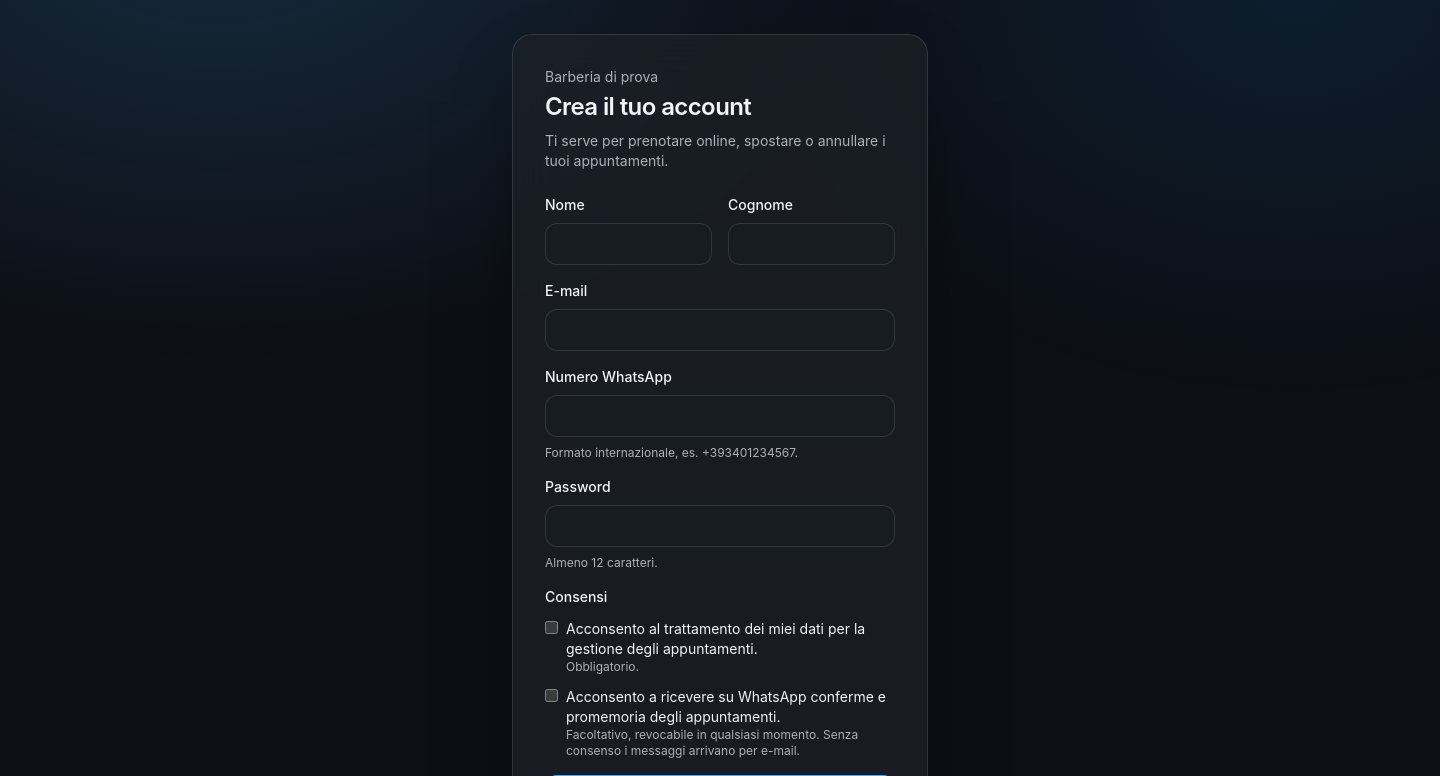
Scenario: PaginaRegistrazione › segnala una password troppo corta
The width and height of the screenshot is (1440, 776).
Step 1. Type "Marta" into the field labelled "Nome" → coordinates (628, 244), box [545,223,712,265]
Step 2. Type "Esposito" into the field labelled "Cognome" → coordinates (812, 244), box [728,223,895,265]
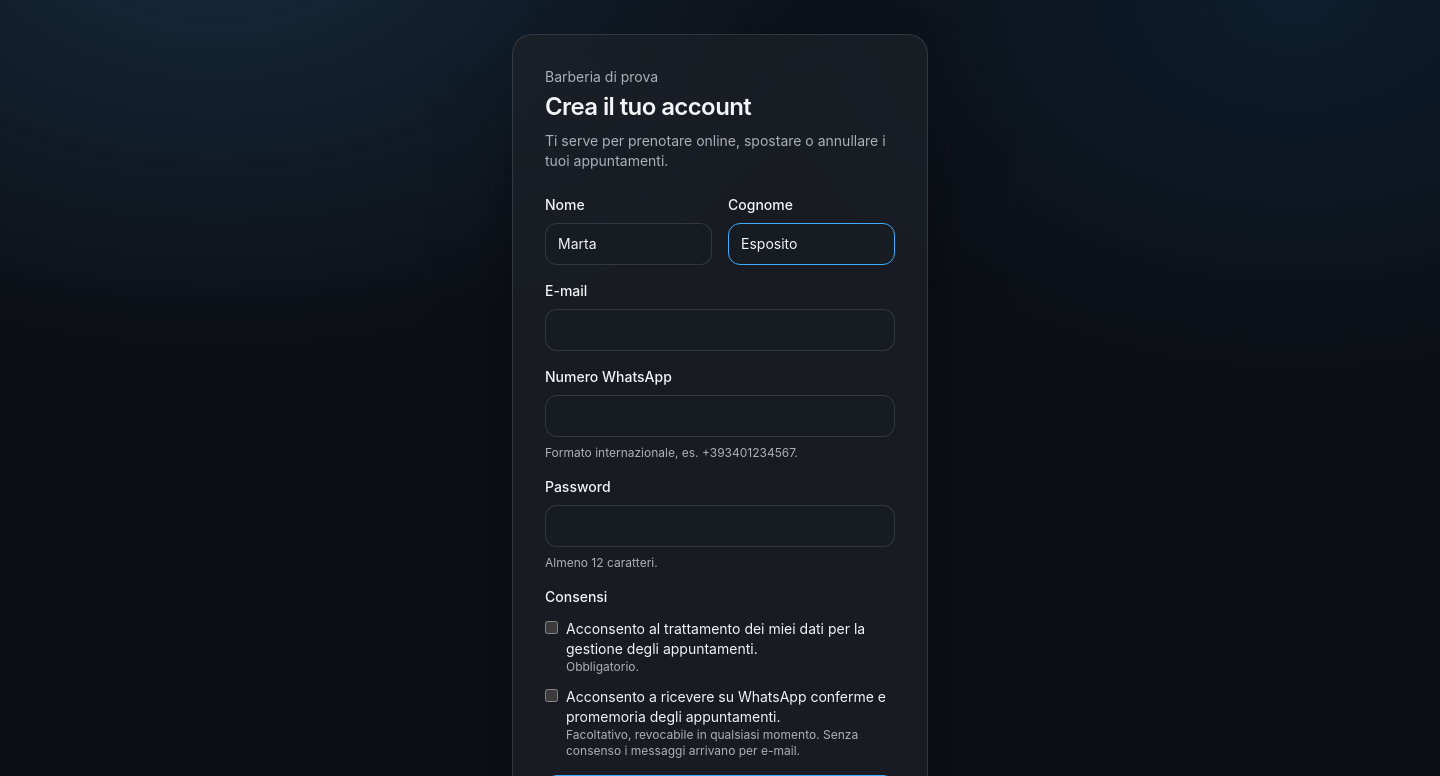
Step 3. Type "marta@cliente.test" into the field labelled "E-mail" → coordinates (720, 330), box [545,309,895,351]
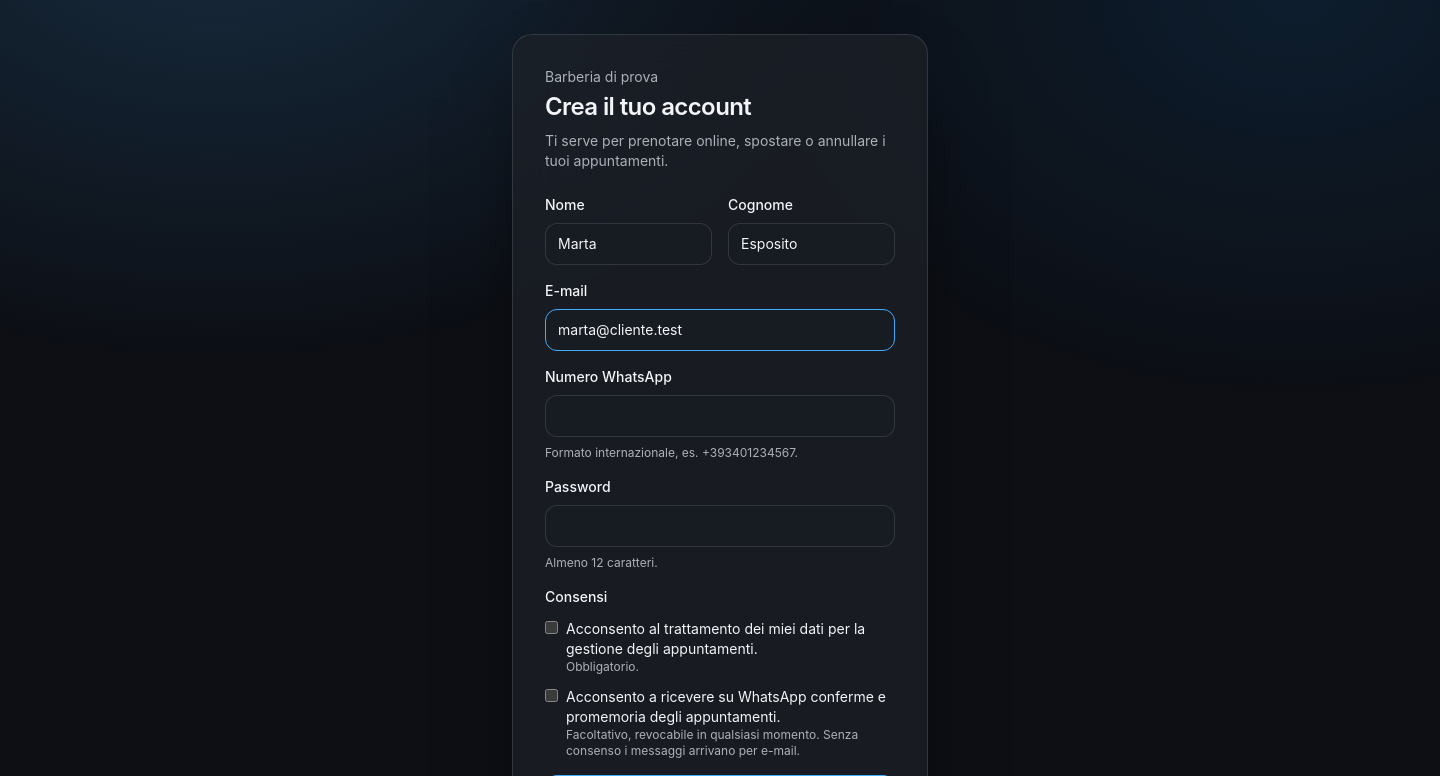
Step 4. Type "+393401234567" into the field labelled "Numero WhatsApp" → coordinates (720, 416), box [545,395,895,437]
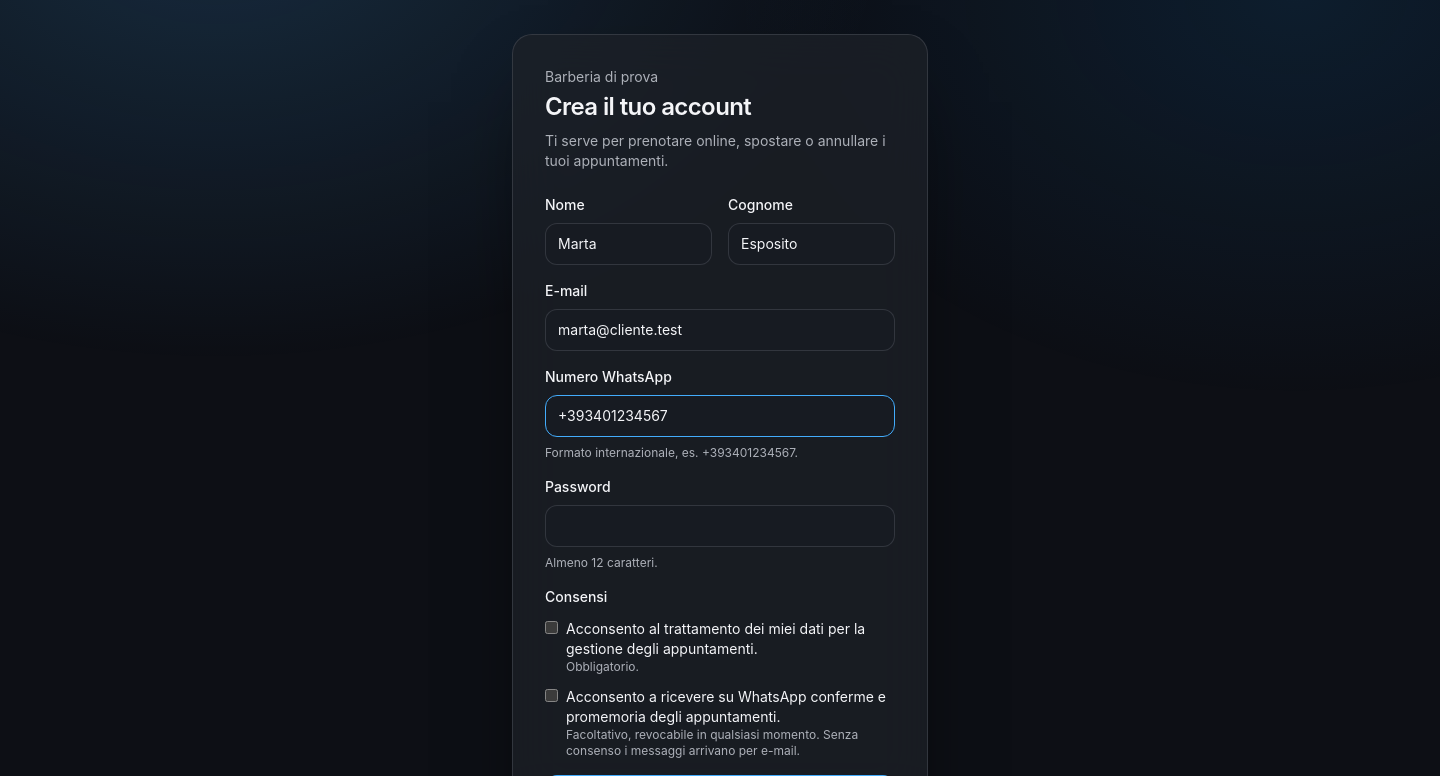
Step 5. Type "corta" into the password field labelled "Password" → coordinates (720, 526), box [545,505,895,547]
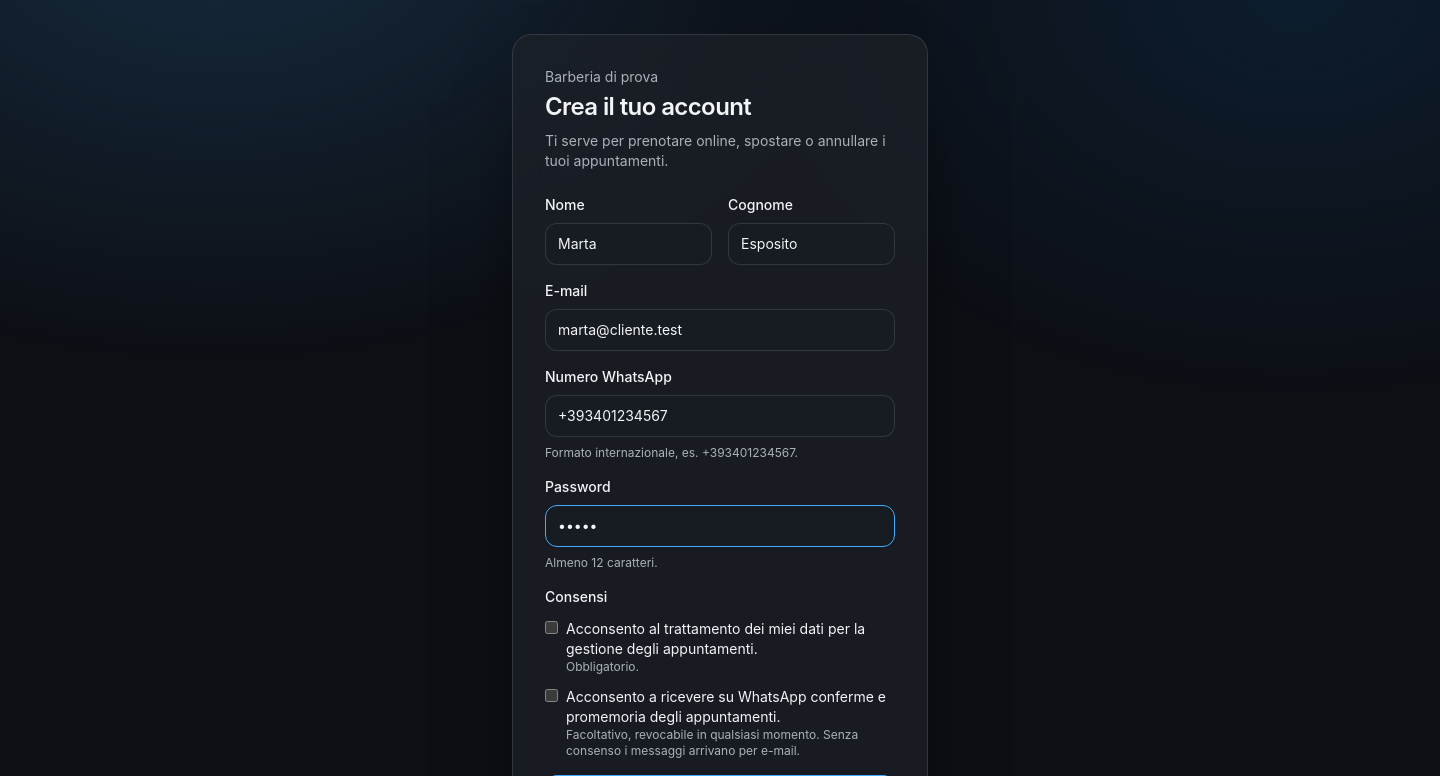
Step 6. Click the checkbox labelled "trattamento dei miei dati" → coordinates (552, 628), box [545,621,558,634]
(page scrolled)
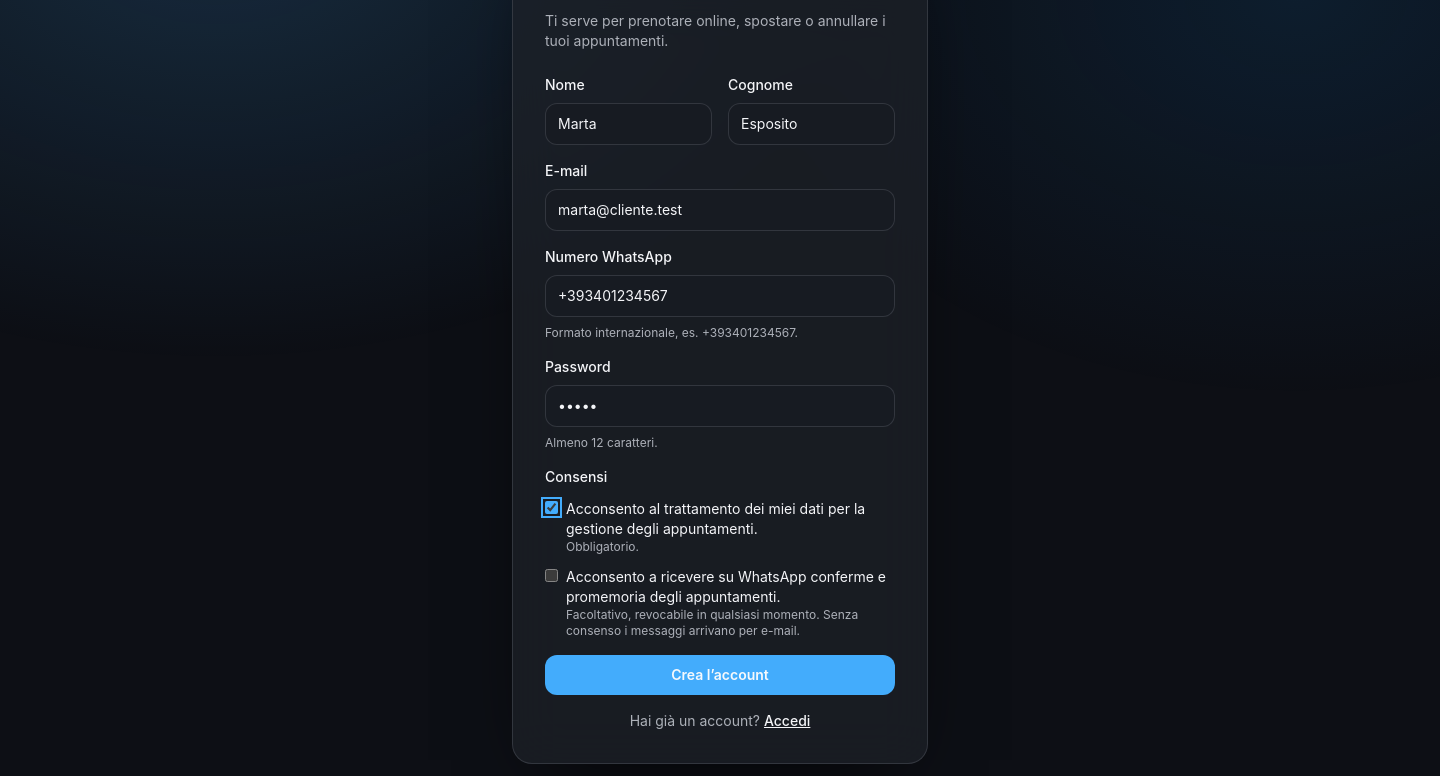
Step 7. Click the button "Crea l’account" → coordinates (720, 675), box [545,655,895,695]
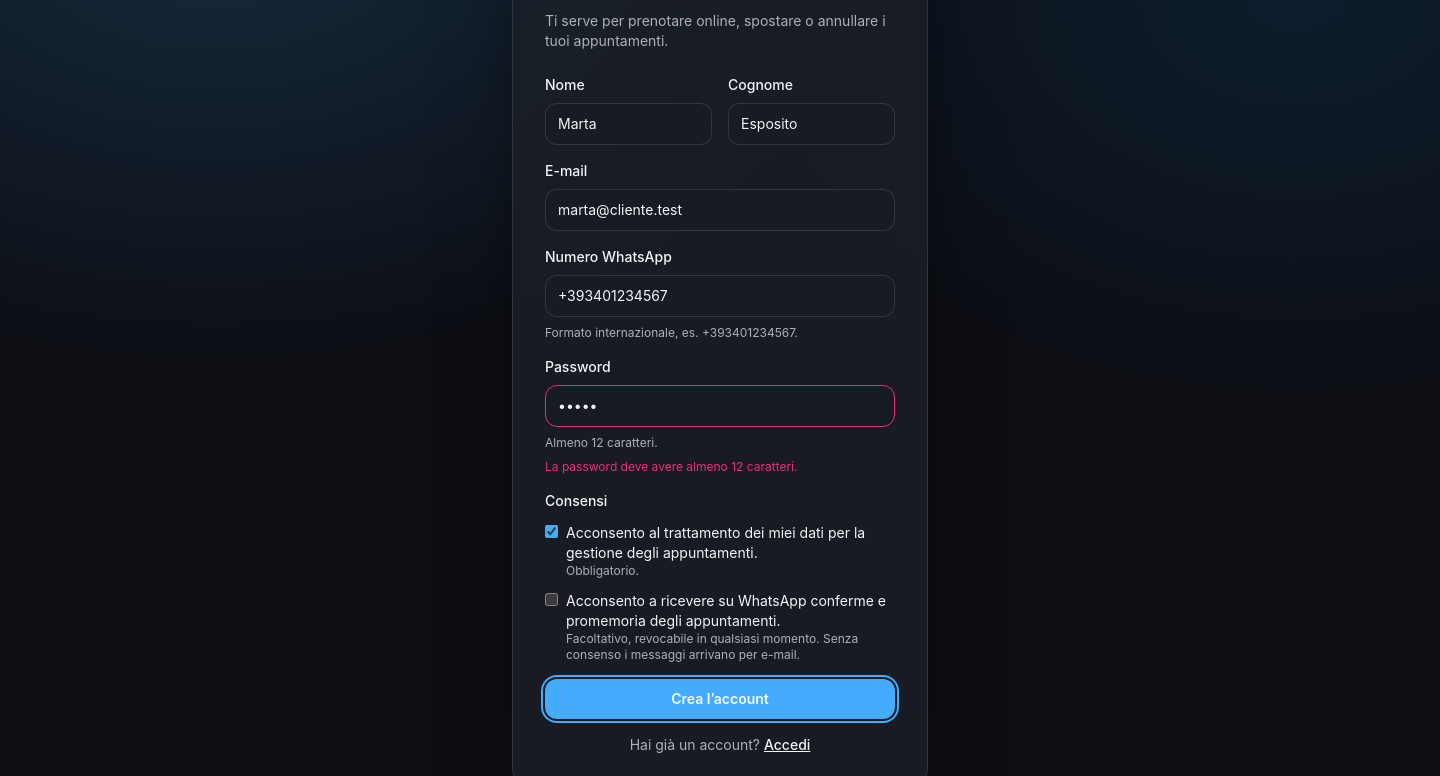
Check: the text "La password deve avere almeno 12 caratteri." is shown, box [545,459,798,474]
